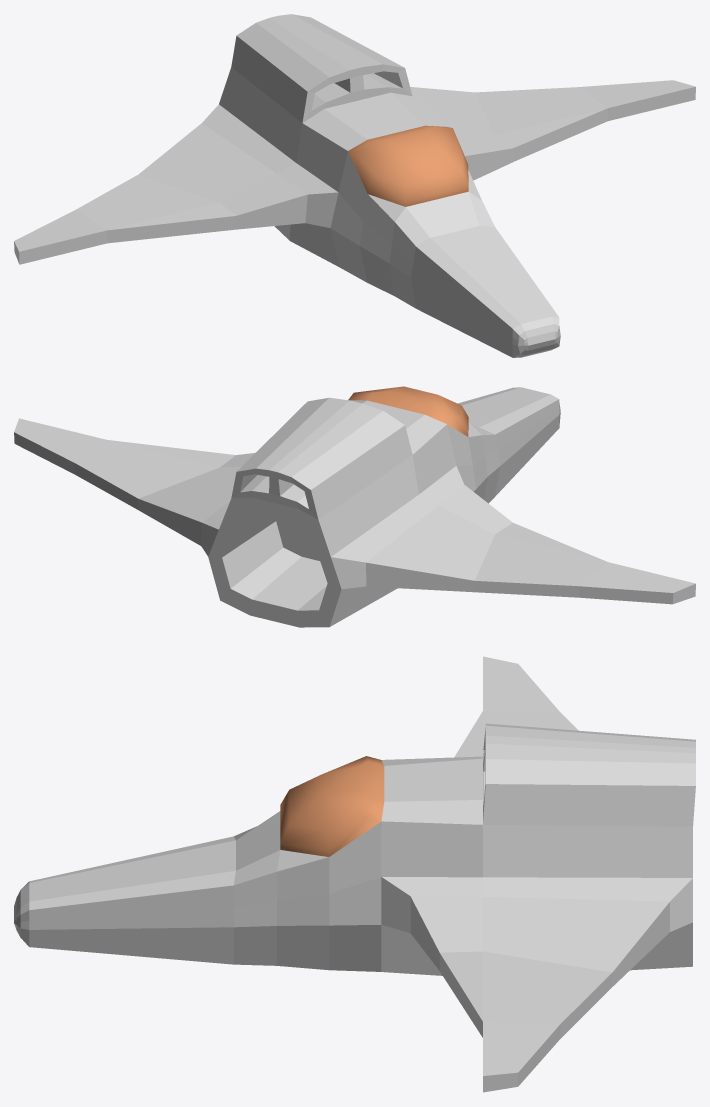
The model's file is Spaceship_level1.glb.
3 renders of one model, top to bottom at view 1: azimuth 30°, elevation 25°; view 2: azimuth 150°, elevation 25°; view 3: azimuth 270°, elevation 25°, orthographic. The views are drawn at different scales.
Parts seen in each view (by area): view 1: Spaceship4; view 2: Spaceship4; view 3: Spaceship4.
Boxes of the visible parts, bbox=[...] form: Spaceship4: bbox=[14, 14, 695, 357]; Spaceship4: bbox=[14, 386, 695, 627]; Spaceship4: bbox=[14, 656, 695, 1092].
Bounding box in the file's own units: 5.44 × 1.26 × 3.74.
